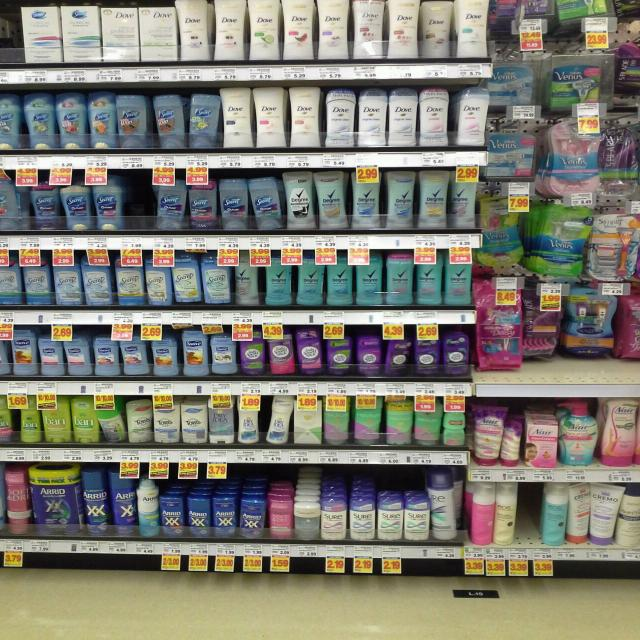unorganised: (568, 284, 616, 375), (526, 283, 566, 374), (480, 189, 524, 269), (431, 468, 463, 543), (491, 57, 540, 103), (418, 2, 455, 59), (231, 255, 262, 307), (263, 398, 294, 449), (567, 484, 591, 544), (97, 401, 127, 445), (385, 336, 414, 378)
